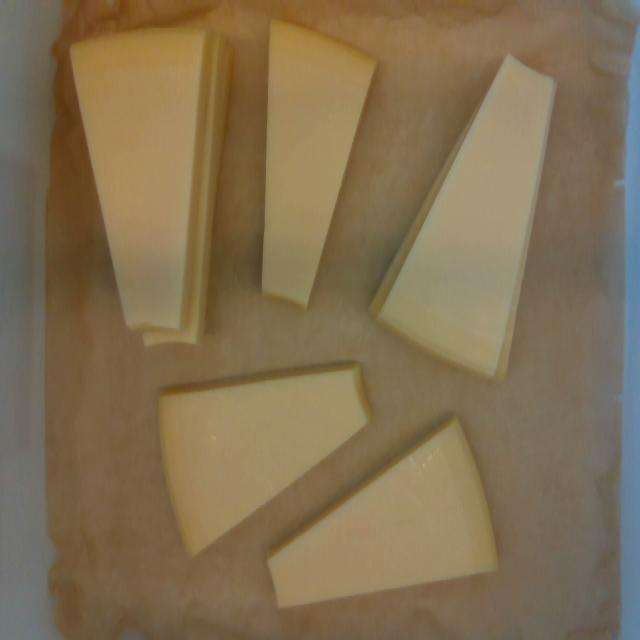Cheese: (376, 59, 553, 377), (269, 420, 496, 607), (71, 28, 205, 329), (159, 365, 368, 553), (262, 21, 374, 305)
